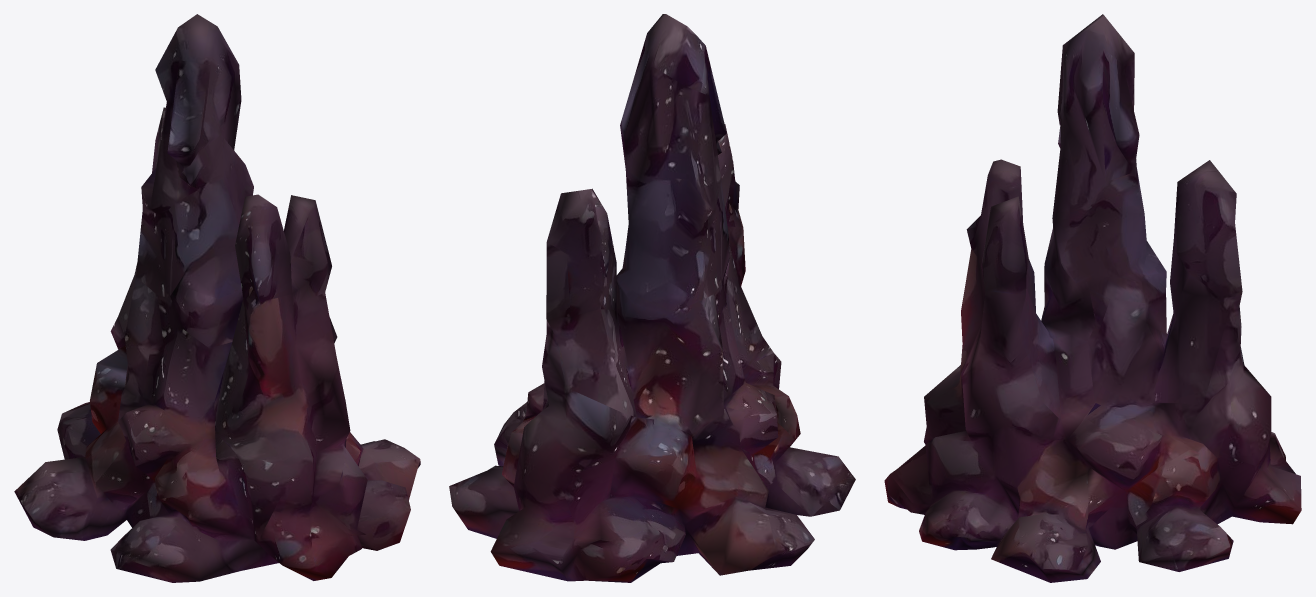
Rendered from stalagmite.glb.
3 renders of one model, left to right at view 1: azimuth 30°, elevation 25°; view 2: azimuth 150°, elevation 25°; view 3: azimuth 270°, elevation 25°, orthographic. The views are drawn at different scales.
Parts seen in each view (by area): view 1: tripo_node_55b3d335-52a0-4ea6-8f3e-11f7788937f4; view 2: tripo_node_55b3d335-52a0-4ea6-8f3e-11f7788937f4; view 3: tripo_node_55b3d335-52a0-4ea6-8f3e-11f7788937f4.
Part boxes in pixels (x1,y1,x2,y2): tripo_node_55b3d335-52a0-4ea6-8f3e-11f7788937f4: [14, 14, 420, 582]; tripo_node_55b3d335-52a0-4ea6-8f3e-11f7788937f4: [449, 14, 855, 582]; tripo_node_55b3d335-52a0-4ea6-8f3e-11f7788937f4: [884, 14, 1301, 582].
Bounding box in the file's own units: 0.7325 × 0.9968 × 0.7839.
Materials: 1 (1 with a texture image).
